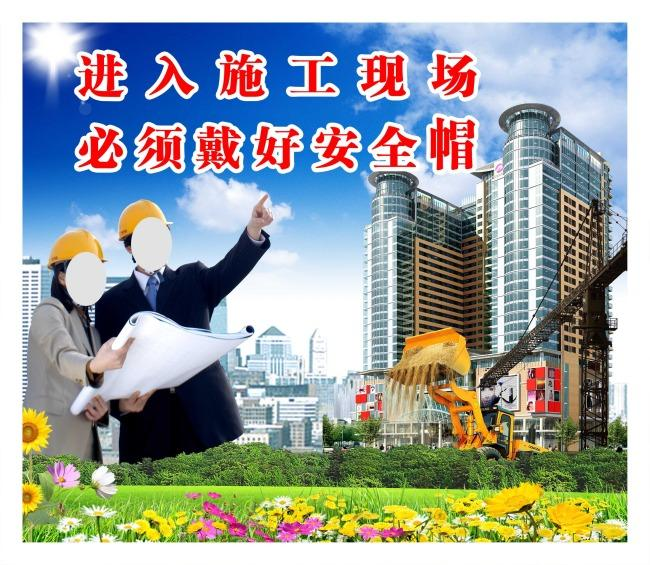helmet: (45, 228, 109, 270), (118, 200, 174, 241)
